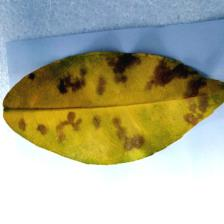black spot: (48, 73, 197, 136)
